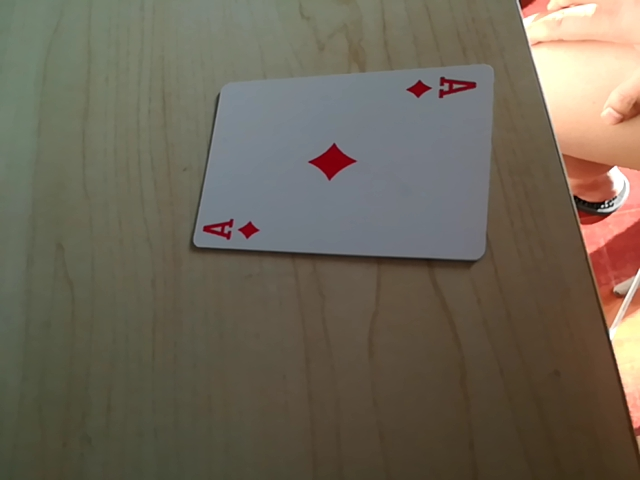fk a: (404, 73, 478, 104), (196, 216, 262, 249)
